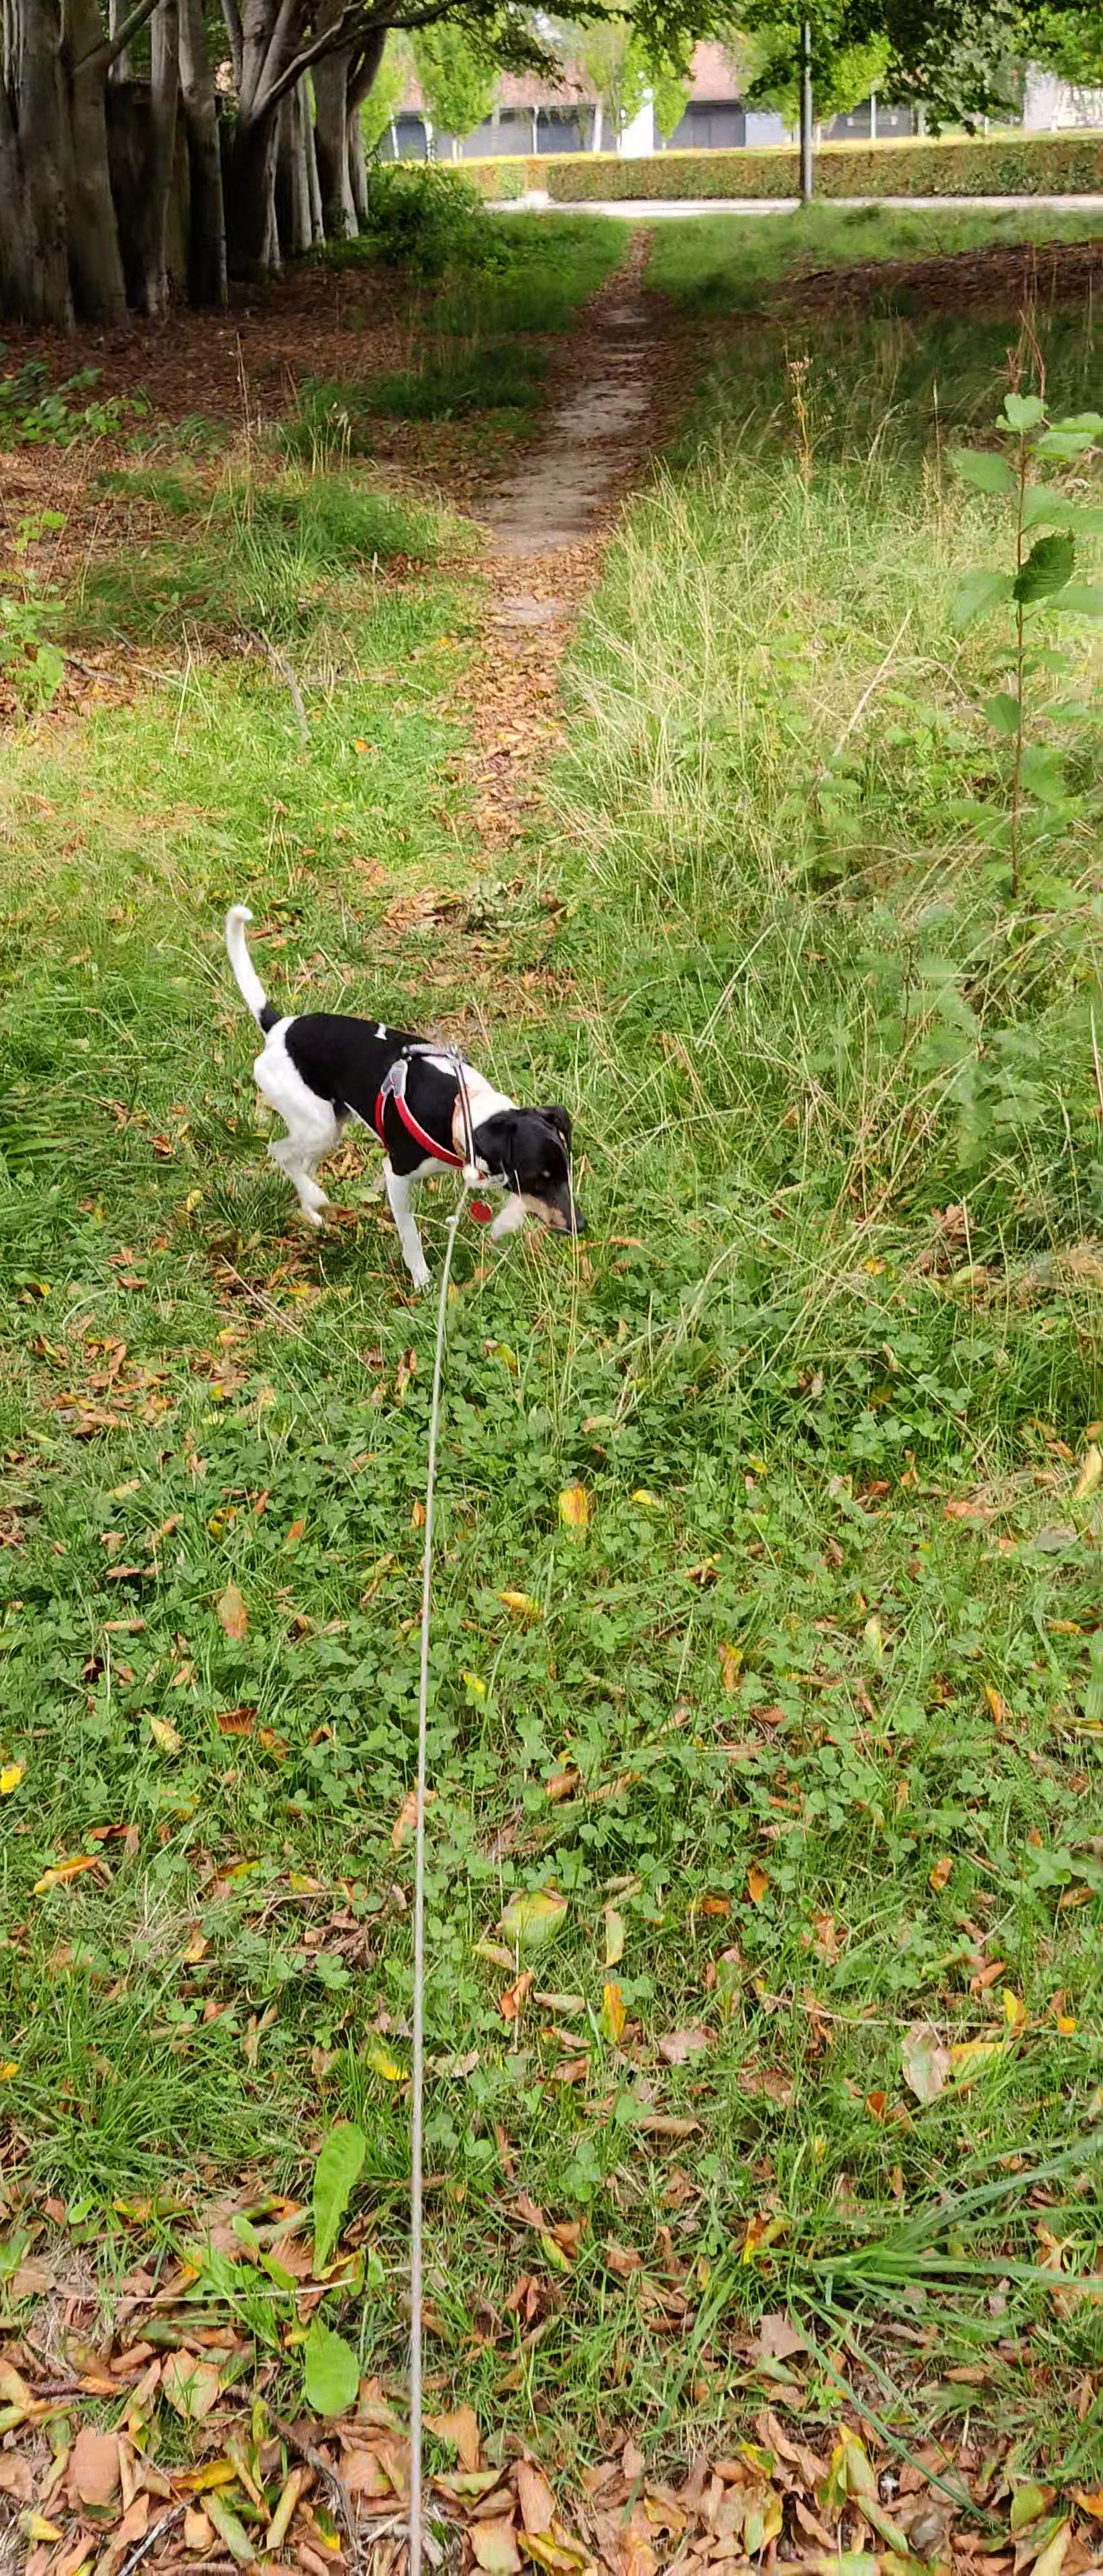Dog: (219, 895, 588, 1299)
